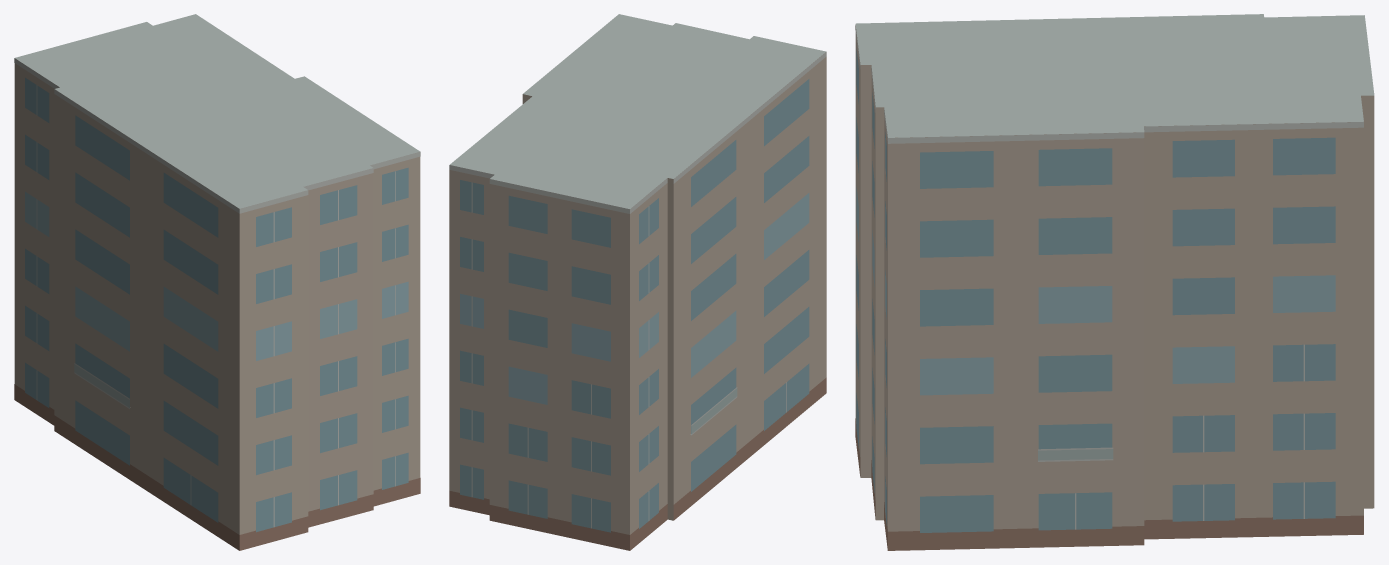
File: survey-upis-32907767.glb
3 views of the same model, side by side, from view 1: azimuth 30°, elevation 25°; view 2: azimuth 150°, elevation 25°; view 3: azimuth 270°, elevation 25° (orthographic). The views are drawn at different scales.
Visible parts, largest first — view 1: survey-upis-32907767.tmp; view 2: survey-upis-32907767.tmp; view 3: survey-upis-32907767.tmp.
Boxes of the visible parts, x1,y1,x2,y2 form: survey-upis-32907767.tmp: (14,14,420,550); survey-upis-32907767.tmp: (449,14,826,550); survey-upis-32907767.tmp: (855,14,1374,550).
Size of the model in its own units: 10.95 by 17 by 19.37.
